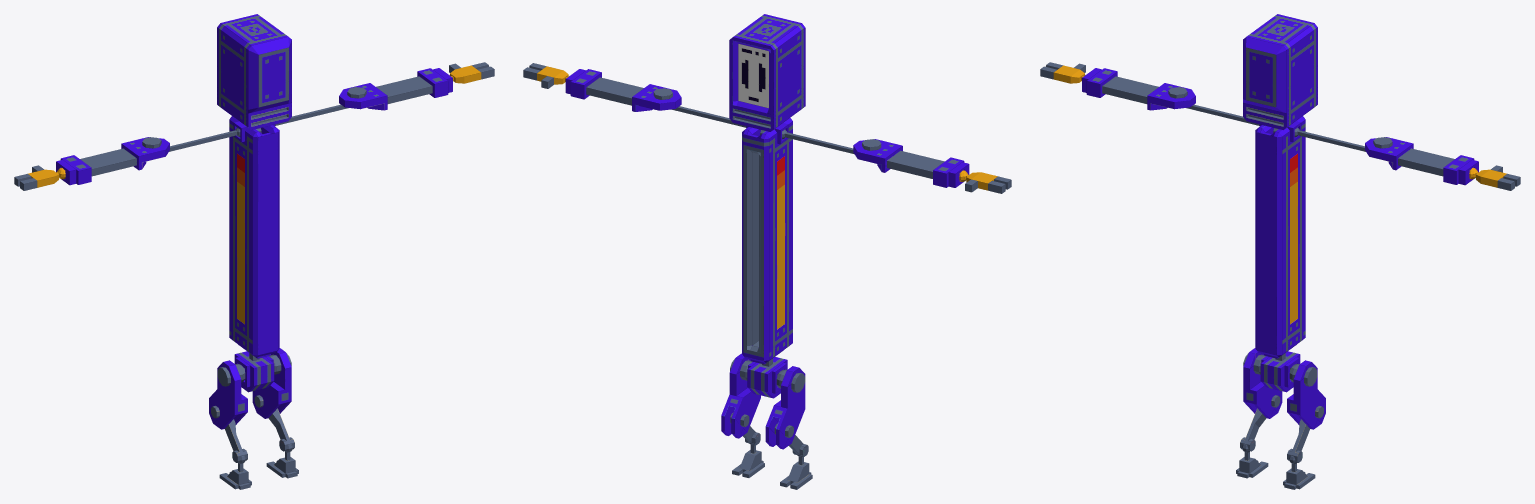
File: BLOK_BOT_v01.obj
3 renders of one model, left to right at view 1: azimuth 30°, elevation 25°; view 2: azimuth 150°, elevation 25°; view 3: azimuth 330°, elevation 25°, orthographic.
Visible parts, largest first — view 1: CHEST, HEAD, ARM_LOWER_RIGHT, ARM_LOWER_LEFT, LEG_UPPER_LEFT, LEG_UPPER_RIGHT, ABDOMEN, ARM_UPPER_LEFT, ARM_UPPER_RIGHT, FOOT_LEFT, LEG_MIDDLE_RIGHT, FOOT_RIGHT (+1 smaller); view 2: CHEST, HEAD, ARM_LOWER_RIGHT, ARM_LOWER_LEFT, LEG_UPPER_LEFT, LEG_UPPER_RIGHT, ABDOMEN, ARM_UPPER_LEFT, FOOT_RIGHT, FOOT_LEFT, ARM_UPPER_RIGHT; view 3: CHEST, HEAD, ARM_LOWER_LEFT, ARM_LOWER_RIGHT, LEG_UPPER_RIGHT, LEG_UPPER_LEFT, ABDOMEN, ARM_UPPER_RIGHT, ARM_UPPER_LEFT, FOOT_RIGHT, LEG_MIDDLE_LEFT, FOOT_LEFT (+1 smaller).
Part boxes in pixels (x1,y1,x2,y2): CHEST: (229, 116, 279, 358); HEAD: (217, 14, 291, 129); ARM_LOWER_RIGHT: (339, 68, 452, 110); ARM_LOWER_LEFT: (56, 137, 169, 185); LEG_UPPER_LEFT: (209, 360, 247, 429); LEG_UPPER_RIGHT: (252, 348, 291, 418); ABDOMEN: (234, 351, 274, 392); ARM_UPPER_LEFT: (142, 127, 240, 151); ARM_UPPER_RIGHT: (275, 87, 366, 125); FOOT_LEFT: (219, 455, 251, 489); LEG_MIDDLE_RIGHT: (254, 395, 294, 451); FOOT_RIGHT: (266, 444, 298, 478); CHEST: (742, 118, 792, 364); HEAD: (729, 14, 805, 131); ARM_LOWER_RIGHT: (565, 69, 681, 111); ARM_LOWER_LEFT: (853, 139, 969, 187); LEG_UPPER_LEFT: (765, 366, 805, 449); LEG_UPPER_RIGHT: (721, 353, 760, 438); ABDOMEN: (747, 357, 787, 398); ARM_UPPER_LEFT: (782, 129, 881, 154); FOOT_RIGHT: (732, 438, 764, 477); FOOT_LEFT: (780, 446, 812, 489); ARM_UPPER_RIGHT: (653, 88, 746, 127); CHEST: (1255, 116, 1305, 358); HEAD: (1243, 14, 1317, 129); ARM_LOWER_LEFT: (1082, 68, 1195, 110); ARM_LOWER_RIGHT: (1365, 137, 1478, 185); LEG_UPPER_RIGHT: (1287, 360, 1325, 429); LEG_UPPER_LEFT: (1243, 348, 1282, 418); ABDOMEN: (1260, 351, 1300, 392); ARM_UPPER_RIGHT: (1294, 127, 1392, 151); ARM_UPPER_LEFT: (1168, 87, 1259, 125); FOOT_RIGHT: (1283, 455, 1315, 489); LEG_MIDDLE_LEFT: (1240, 395, 1280, 451); FOOT_LEFT: (1236, 444, 1268, 478).
Size of the model in its own units: 8.75 by 7.86 by 1.17.
Materials: 1 (1 with a texture image).
